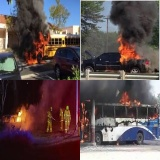fire: (114, 35, 146, 64), (24, 30, 50, 63), (80, 99, 90, 144), (118, 91, 131, 107), (14, 109, 23, 124), (149, 110, 159, 122), (133, 98, 142, 107), (80, 134, 87, 144)
